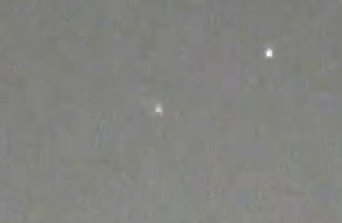Target: (157, 49, 272, 112)
